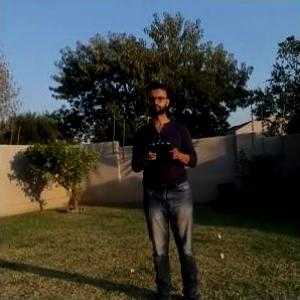follow: (122, 75, 200, 299)
